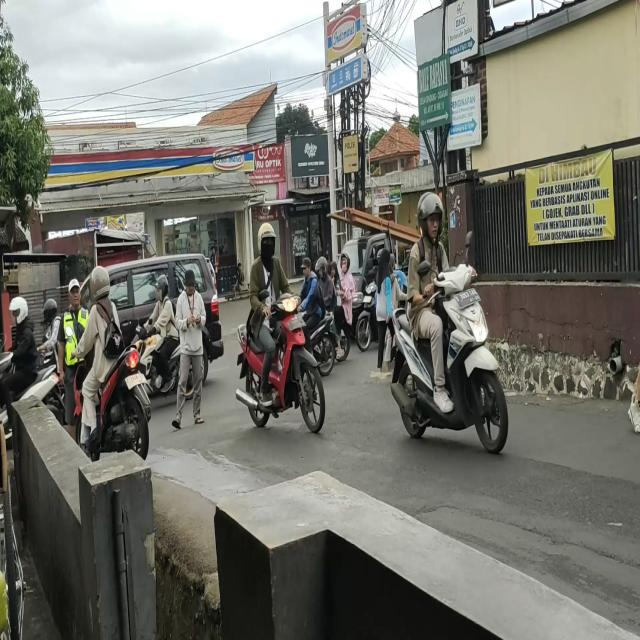helmet: (417, 192, 445, 239), (87, 265, 112, 302), (256, 222, 277, 259), (156, 274, 170, 300), (315, 255, 327, 279), (339, 250, 351, 273)
no-helmet: (300, 257, 311, 280), (329, 259, 338, 275)
